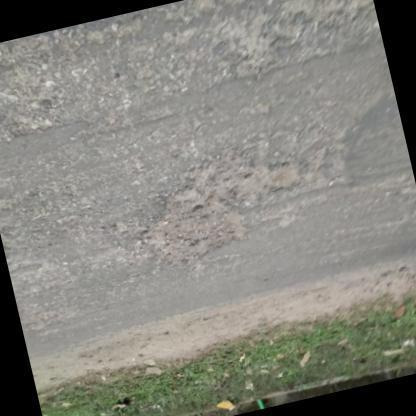pothole: (146, 154, 306, 260)
